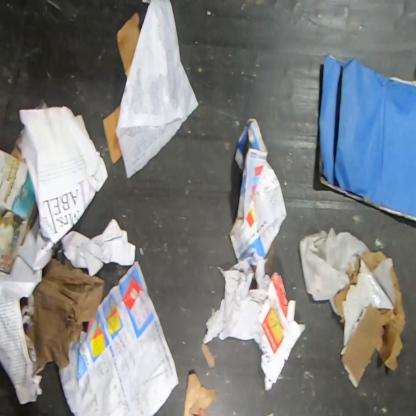cardboard: (316, 51, 415, 227), (25, 241, 105, 377), (331, 250, 406, 389), (0, 151, 38, 275), (116, 12, 143, 79), (101, 105, 123, 165)
